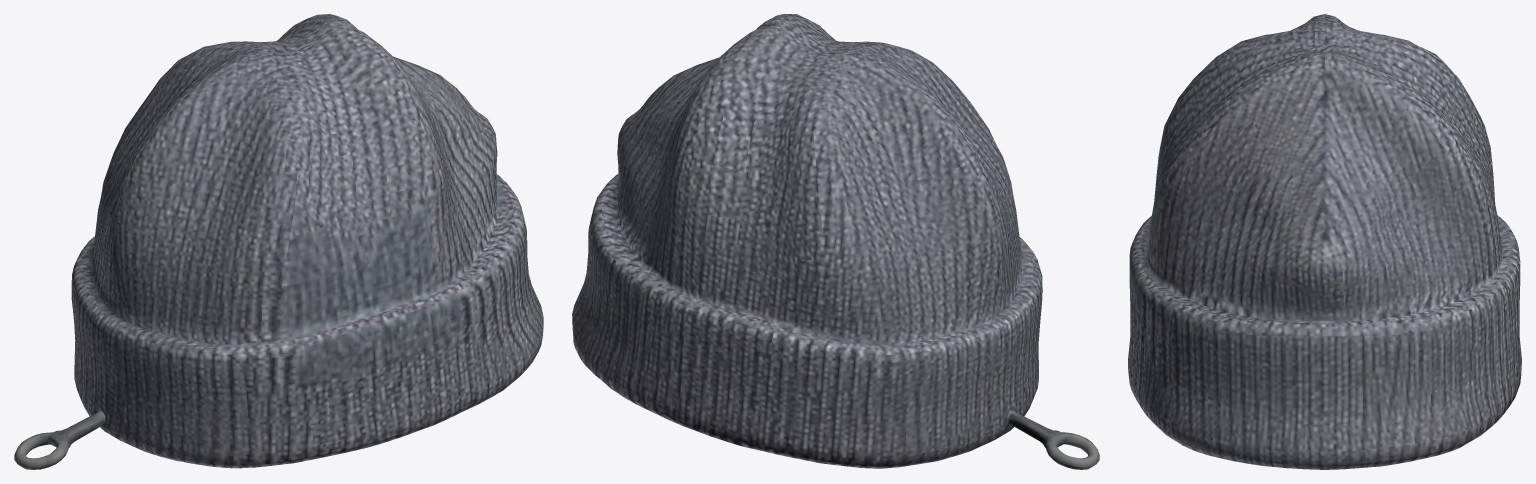
The model's file is gorro_cinza.glb.
3 views of the same model, side by side, from view 1: azimuth 30°, elevation 25°; view 2: azimuth 150°, elevation 25°; view 3: azimuth 270°, elevation 25° (orthographic).
Visible parts, largest first — view 1: gorro_cinza; view 2: gorro_cinza; view 3: gorro_cinza.
Part boxes in pixels (<box>): gorro_cinza: <box>14,14,543,469</box>; gorro_cinza: <box>572,14,1099,469</box>; gorro_cinza: <box>1128,14,1521,469</box>.
Bounding box in the file's own units: 0.3911 × 0.271 × 0.2598.
Materials: 1 (1 with a texture image).
